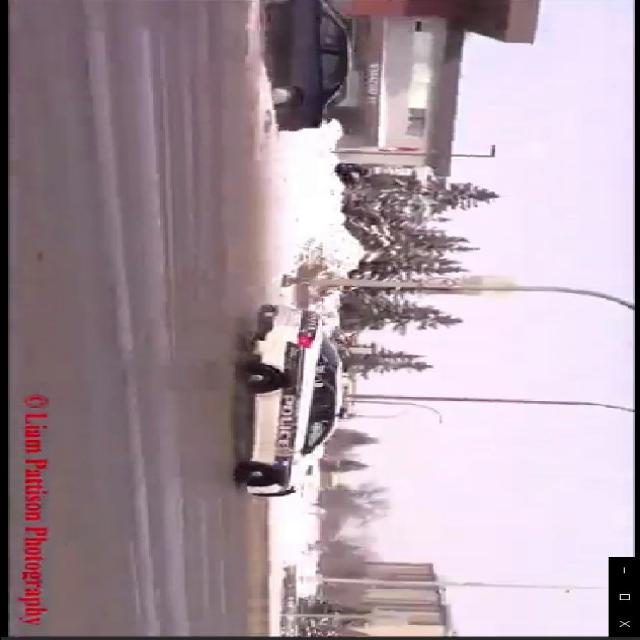emergency: (230, 305, 348, 499)
